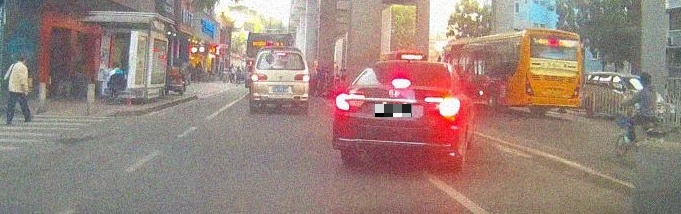L_light: (334, 93, 366, 111), (525, 73, 534, 97), (251, 74, 267, 81)
R_light: (424, 96, 459, 117), (570, 77, 580, 99), (294, 74, 309, 81)
T_light: (390, 79, 410, 87), (549, 55, 564, 59), (275, 52, 286, 55)
day-brake: (251, 46, 310, 112)
day-no: (523, 28, 582, 115)
day-right: (331, 59, 461, 171)
plate_1: (375, 104, 412, 117)
